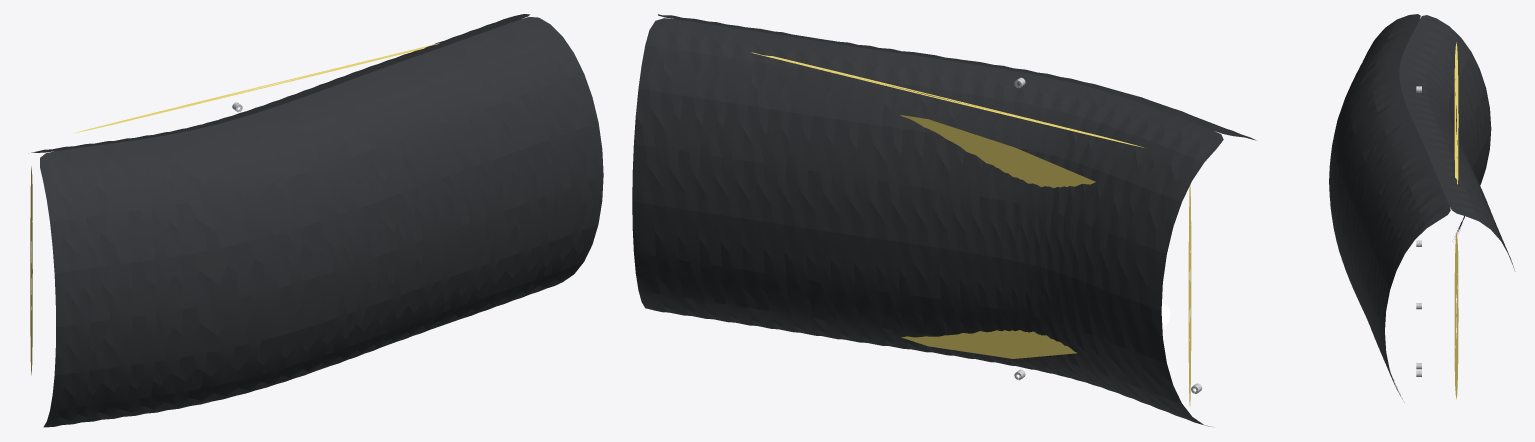
Rendered from engine_cover_f1_pneumatic_carbon_plenum.glb.
The picture shows the model from 3 angles, left to right: view 1: azimuth 30°, elevation 25°; view 2: azimuth 150°, elevation 25°; view 3: azimuth 270°, elevation 25°; orthographic projection. The views are drawn at different scales.
Visible parts, largest first — view 1: Model12_F1_Pneumatic_Carbon_Plenum_Cover; view 2: Model12_F1_Pneumatic_Carbon_Plenum_Cover; view 3: Model12_F1_Pneumatic_Carbon_Plenum_Cover.
Boxes of the visible parts, bbox=[...] form: Model12_F1_Pneumatic_Carbon_Plenum_Cover: bbox=[30, 14, 603, 427]; Model12_F1_Pneumatic_Carbon_Plenum_Cover: bbox=[632, 14, 1256, 427]; Model12_F1_Pneumatic_Carbon_Plenum_Cover: bbox=[1329, 14, 1515, 402].
Size of the model in its own units: 0.6522 by 0.3082 by 0.2409.
